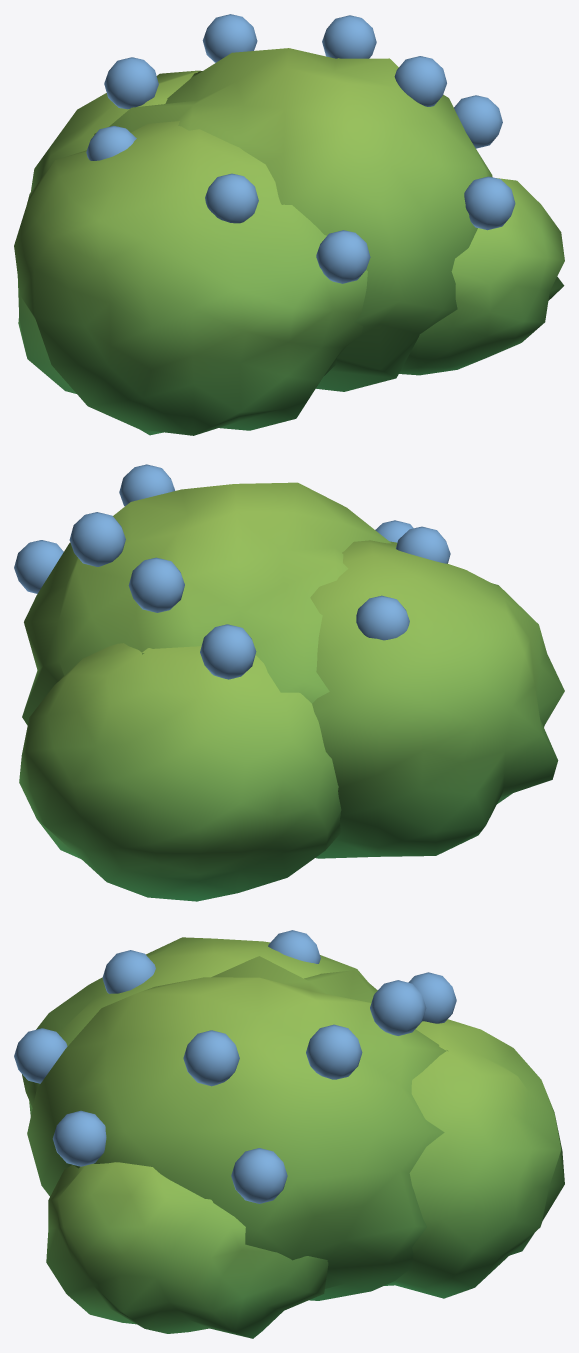
Rendered from bush_flower_blue.glb.
3 renders of one model, top to bottom at view 1: azimuth 30°, elevation 25°; view 2: azimuth 150°, elevation 25°; view 3: azimuth 270°, elevation 25°, orthographic. The views are drawn at different scales.
Visible parts, largest first — view 1: bush_flower_blue; view 2: bush_flower_blue; view 3: bush_flower_blue.
Part boxes in pixels (<box>): bush_flower_blue: <box>14,14,564,435</box>; bush_flower_blue: <box>14,464,564,901</box>; bush_flower_blue: <box>14,930,564,1338</box>.
Size of the model in its own units: 1.35 by 0.8106 by 1.27.
